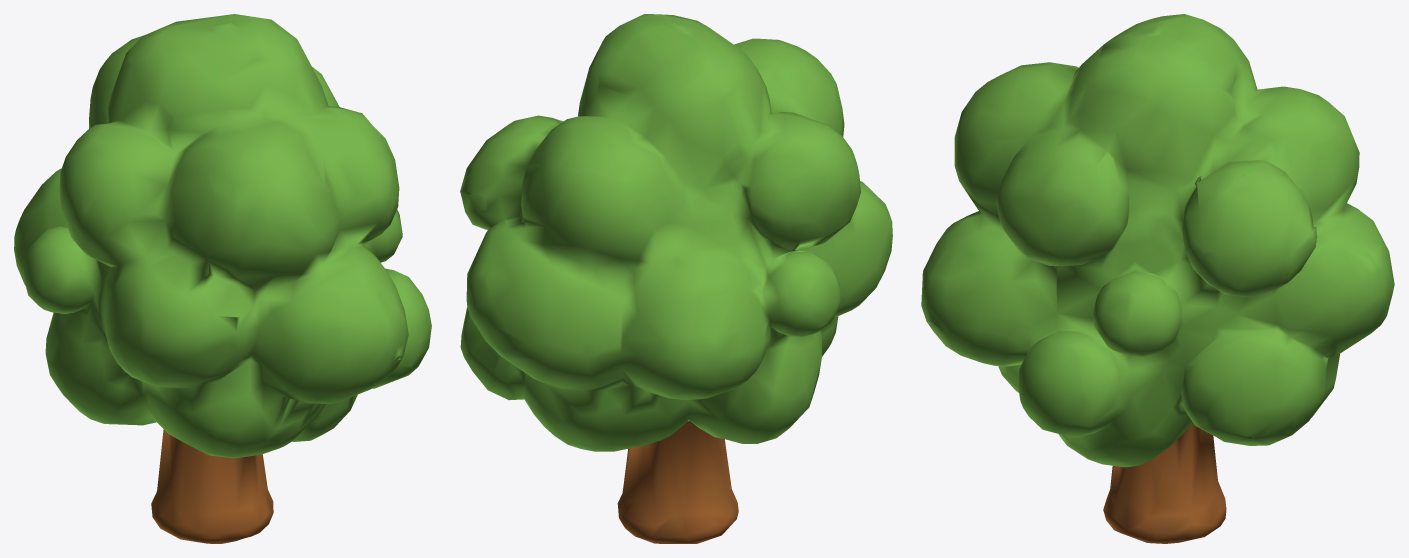
The model's file is park-tree.glb.
3 renders of one model, left to right at view 1: azimuth 30°, elevation 25°; view 2: azimuth 150°, elevation 25°; view 3: azimuth 270°, elevation 25°, orthographic.
Visible parts, largest first — view 1: tripo_node_e9a49af7-9cb0-4489-8236-27fa7bdba74f; view 2: tripo_node_e9a49af7-9cb0-4489-8236-27fa7bdba74f; view 3: tripo_node_e9a49af7-9cb0-4489-8236-27fa7bdba74f.
Boxes of the visible parts, x1,y1,x2,y2 form: tripo_node_e9a49af7-9cb0-4489-8236-27fa7bdba74f: (14,14,431,543); tripo_node_e9a49af7-9cb0-4489-8236-27fa7bdba74f: (460,14,892,543); tripo_node_e9a49af7-9cb0-4489-8236-27fa7bdba74f: (921,14,1394,543).
Size of the model in its own units: 0.7113 by 0.9999 by 0.8583.
1 material, 1 textured.
